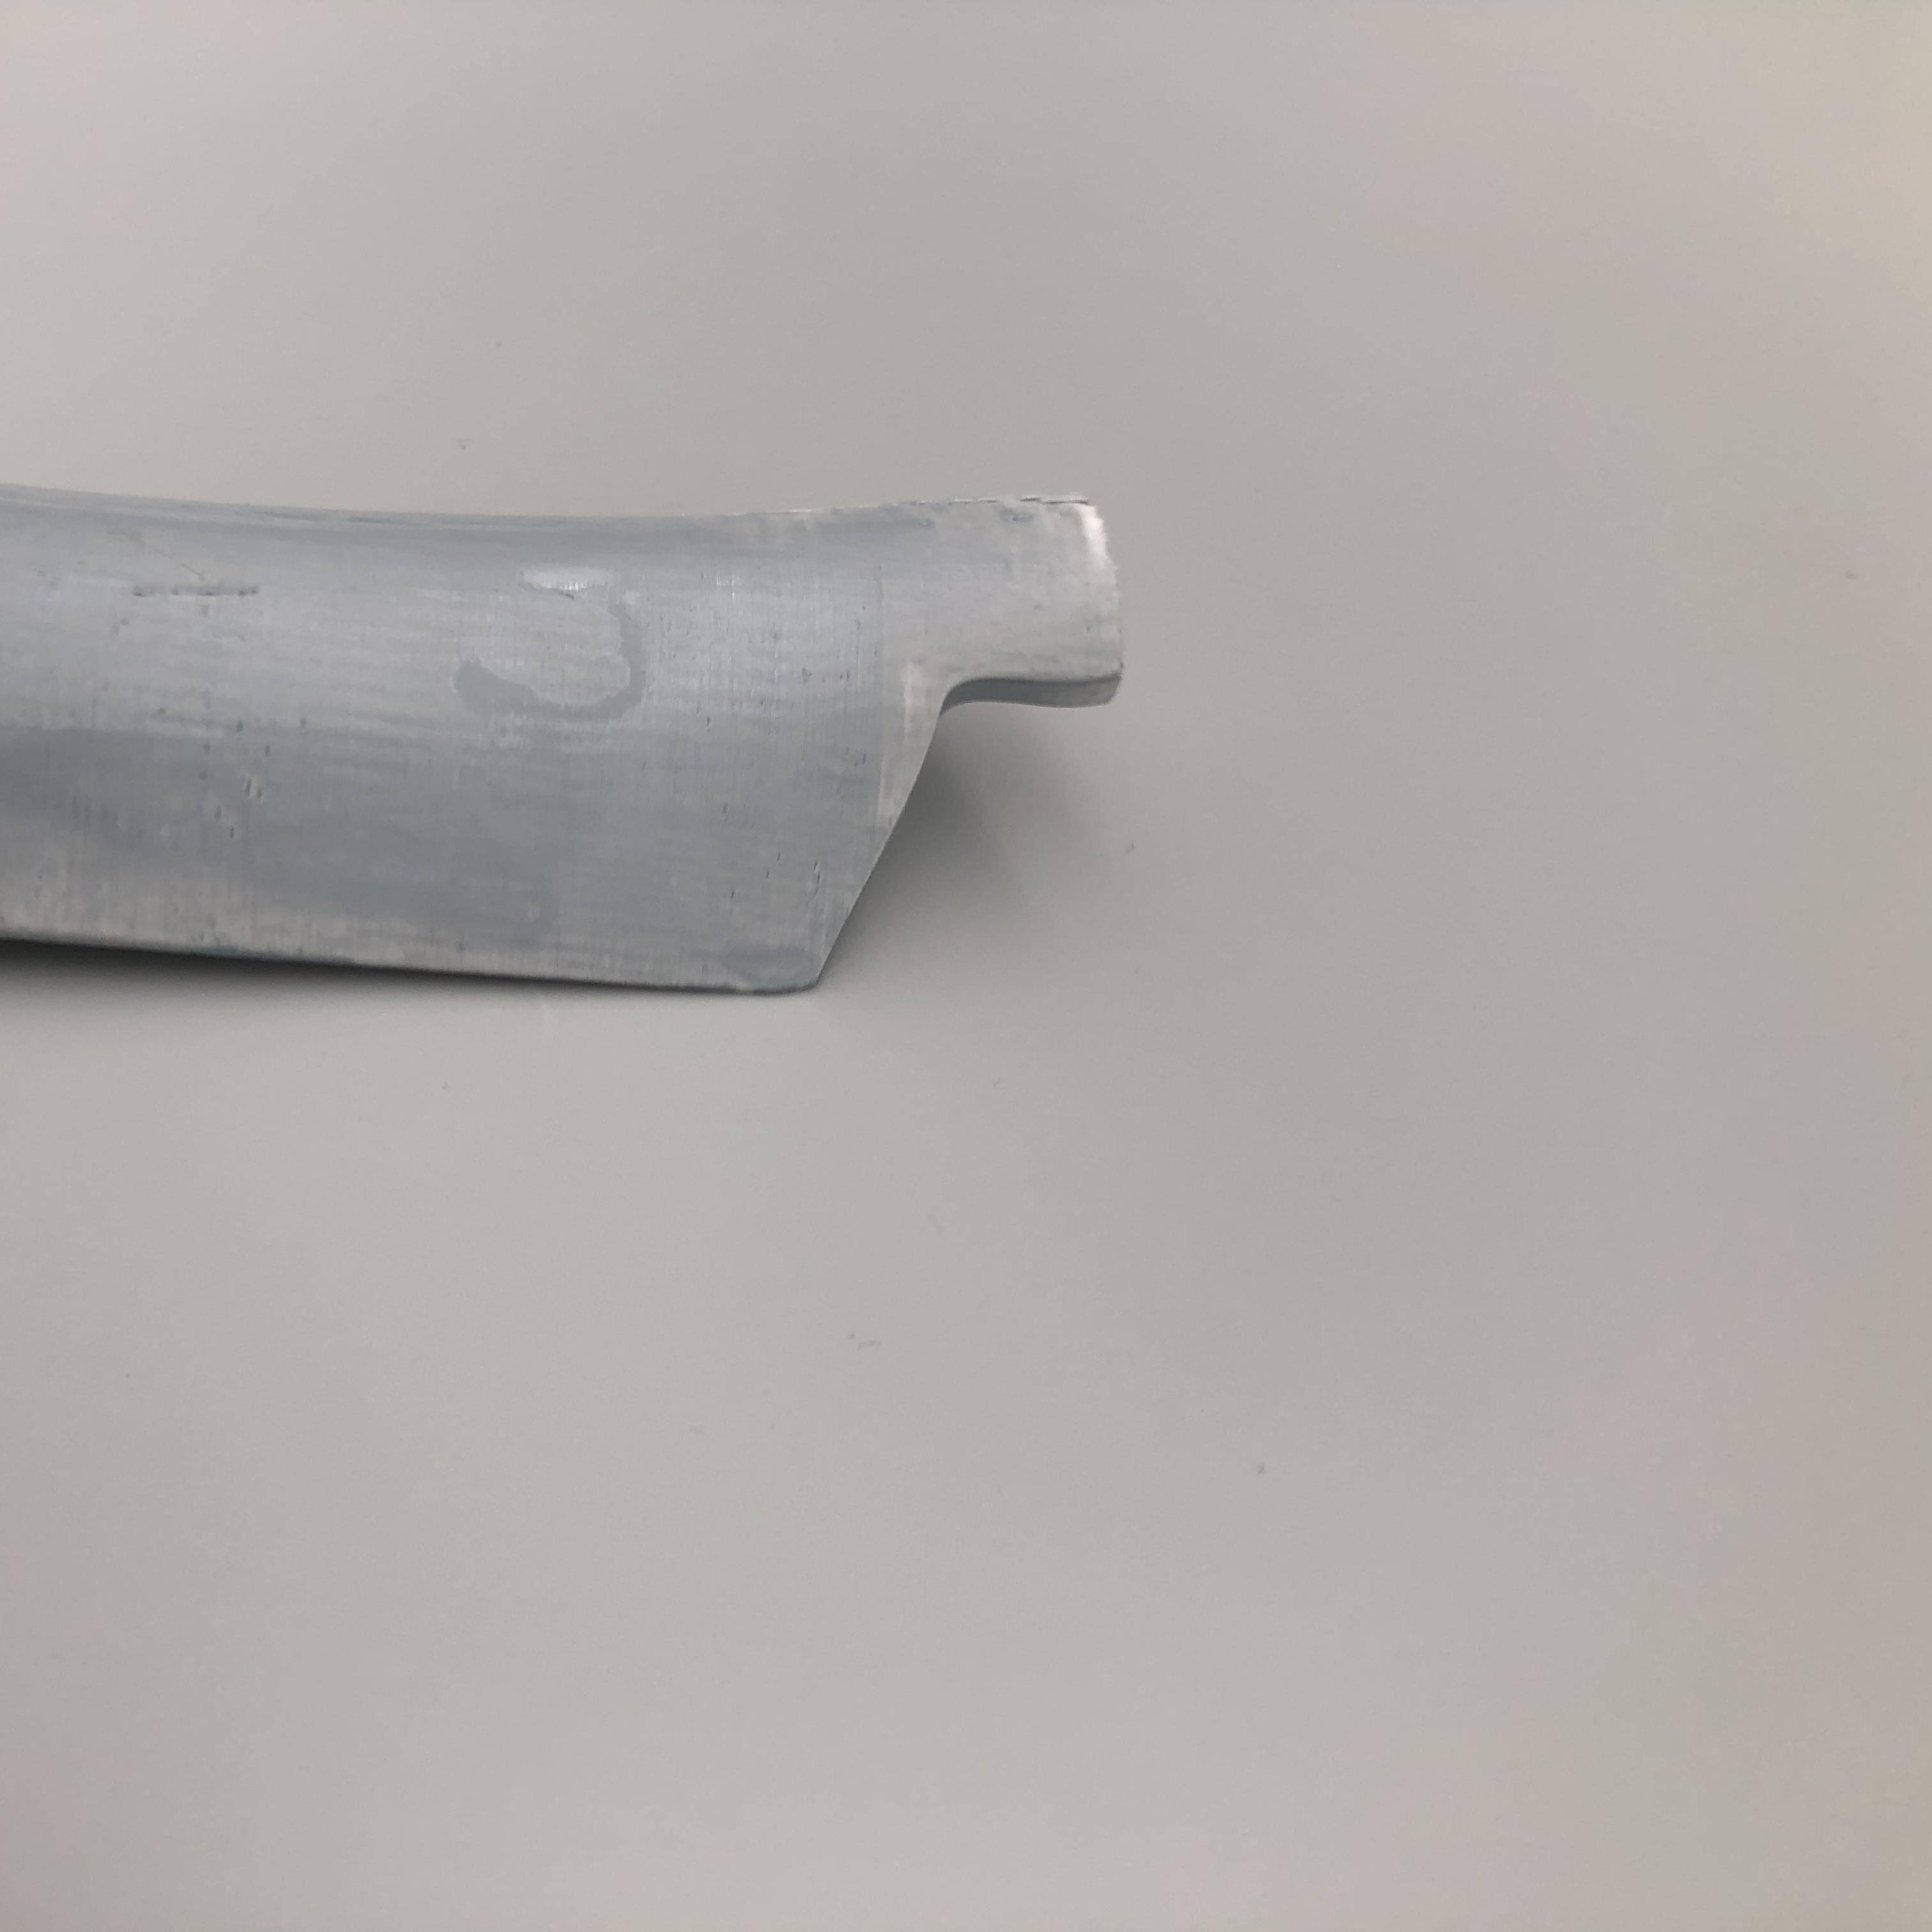fracture: (855, 662, 1175, 957)
